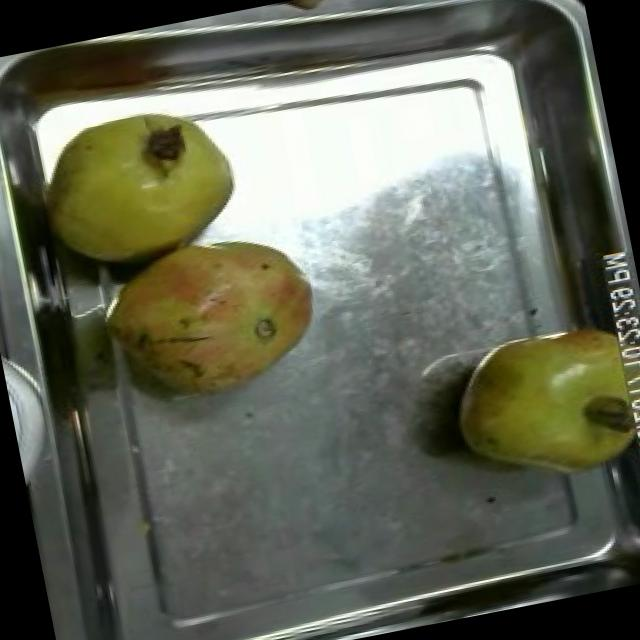fruit: (80, 205, 348, 428), (26, 79, 262, 284), (435, 301, 640, 505)
